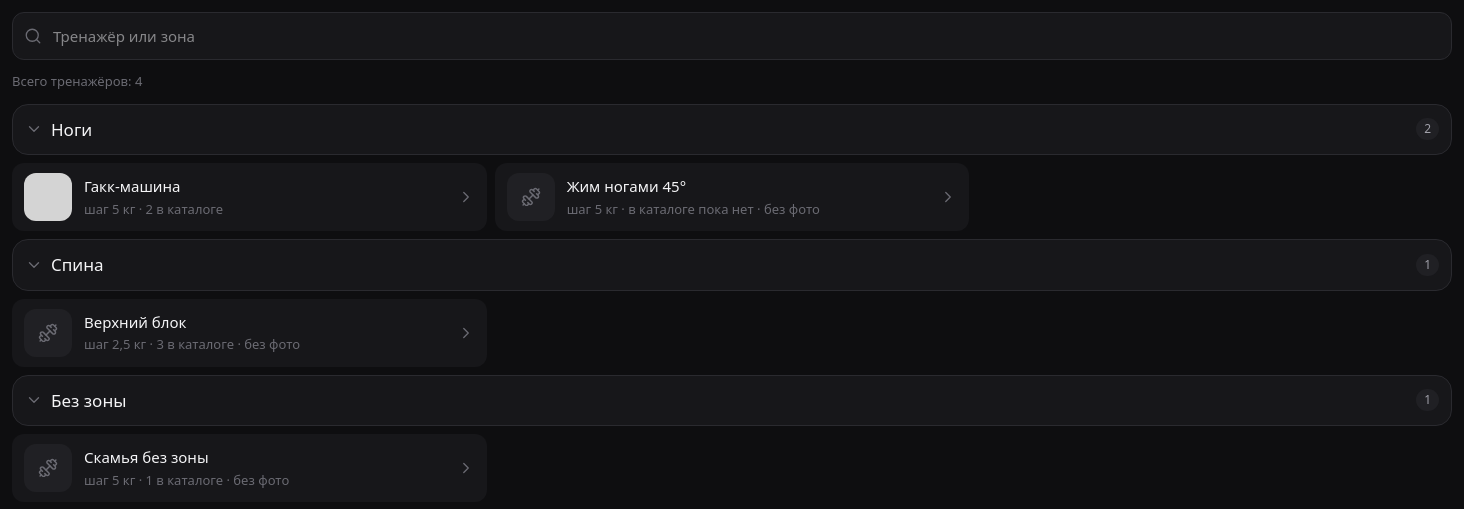
Test: поиск по названию зоны показывает все её тренажёры
The width and height of the screenshot is (1464, 509).
Type "НОГИ" into the search field named "Поиск по тренажёрам" at {"x": 732, "y": 36}, box [12,12,1452,60]
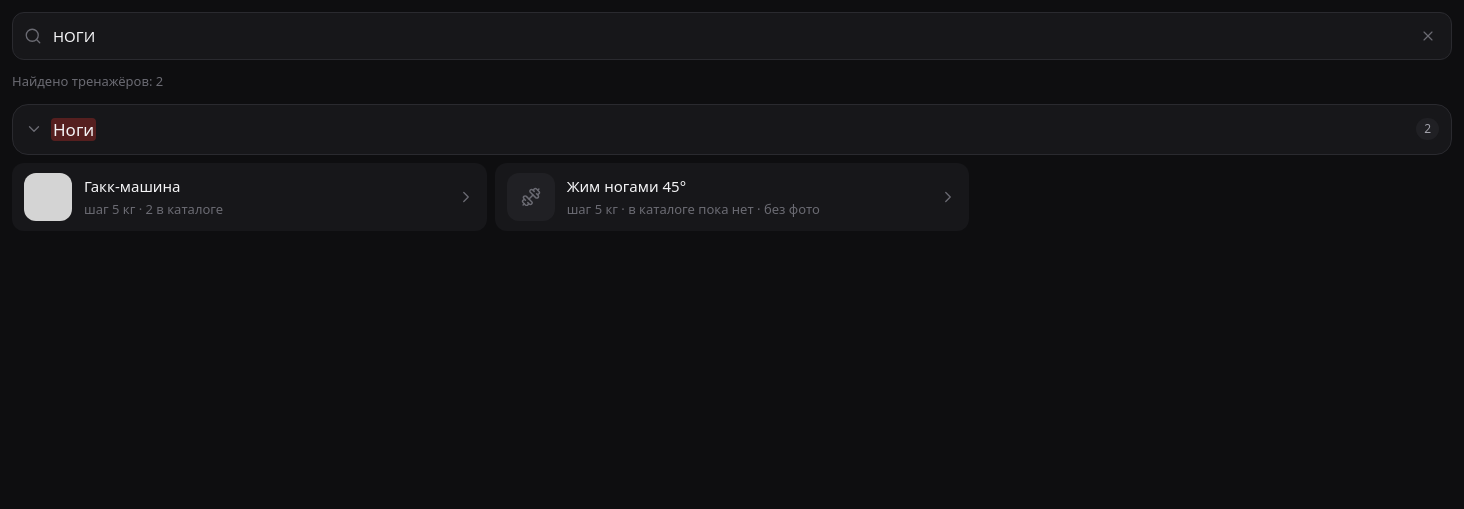
Check: the text "Гакк-машина" is shown, box [84,176,180,196]
Check: the text "Найдено тренажёров: 2" is shown, box [12,72,163,90]
